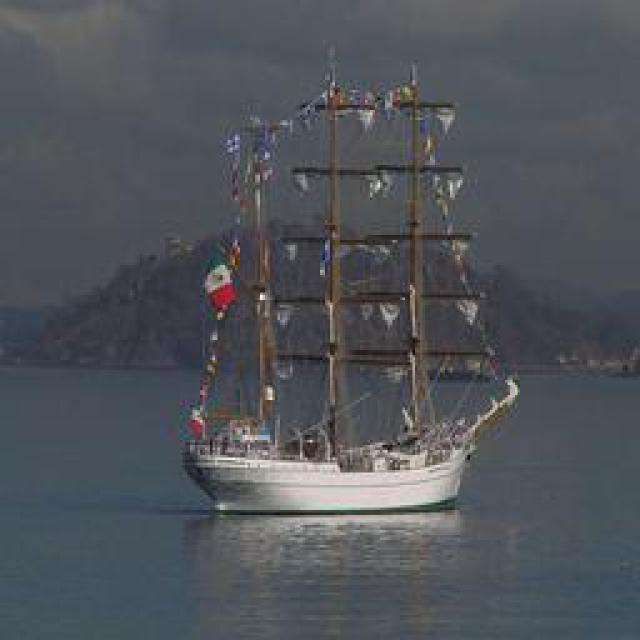Ship: (172, 38, 510, 523)
